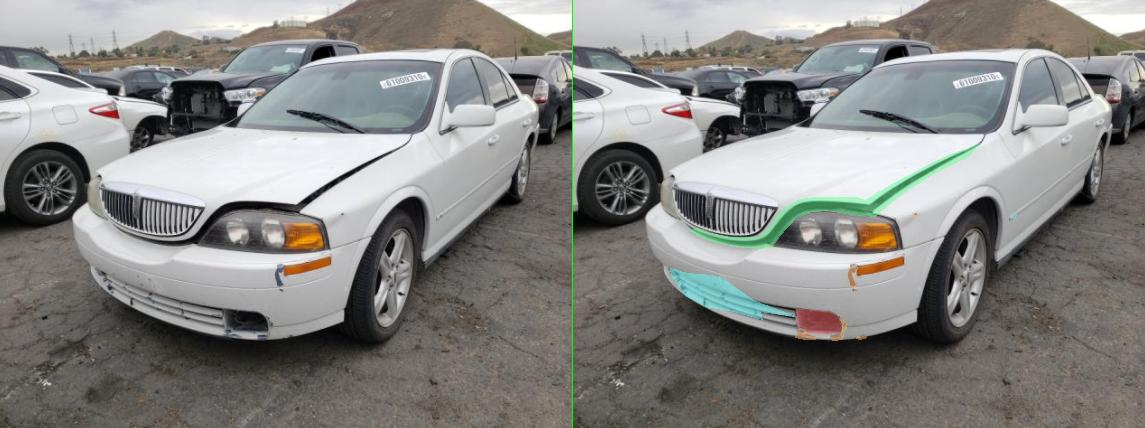Broken part: (232, 143, 813, 248)
Flaking: (194, 268, 444, 319), (879, 215, 887, 218)
Missing part: (446, 309, 536, 333)
Paint chip: (516, 316, 546, 340), (444, 328, 486, 339), (548, 265, 568, 288), (566, 335, 587, 339), (679, 213, 687, 216), (562, 289, 568, 292)
